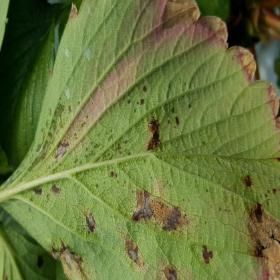Angular Leafspot: (0, 0, 279, 279)
